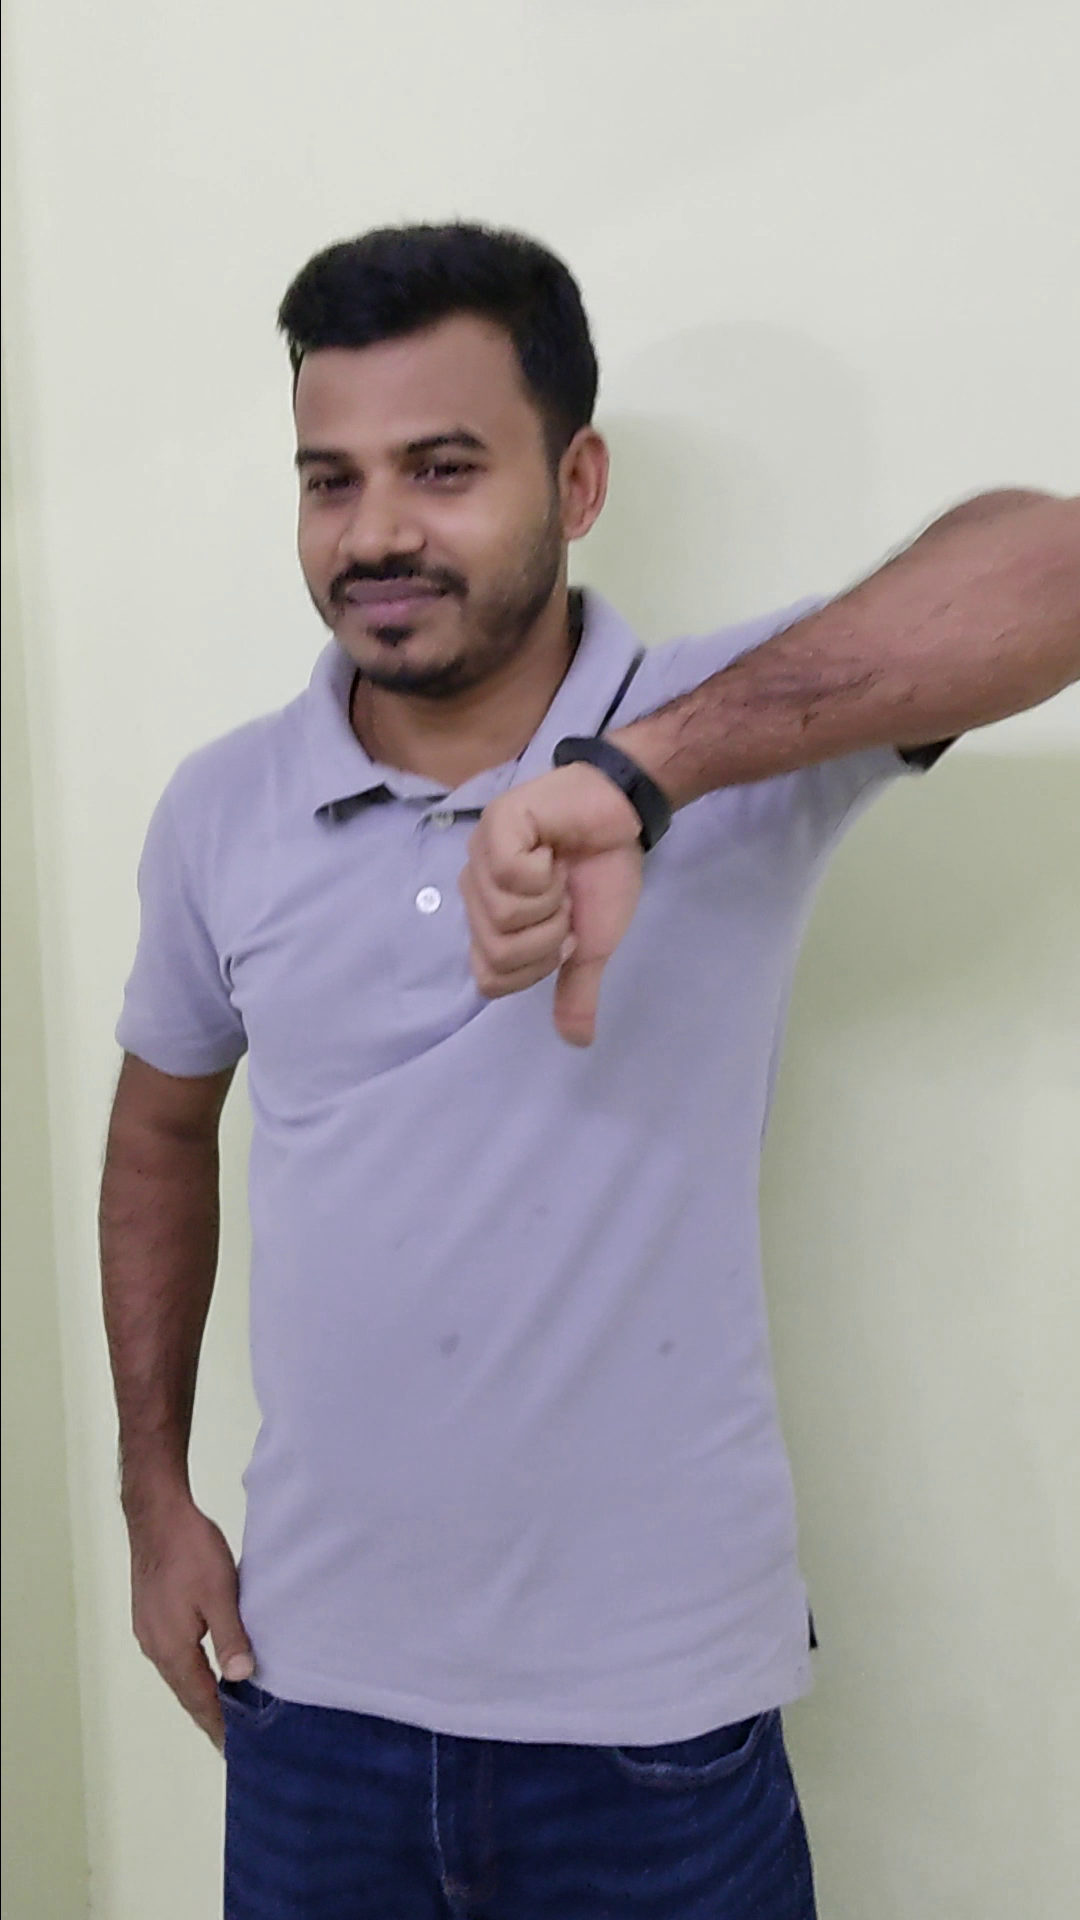Dislike: (443, 727, 666, 1063)
None: (117, 1476, 265, 1768)
